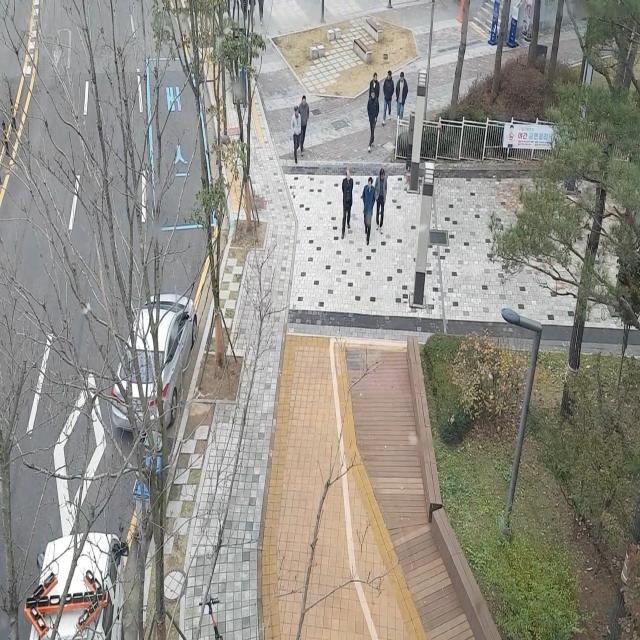Car: (100, 281, 204, 454)
Truck: (9, 504, 139, 640)
